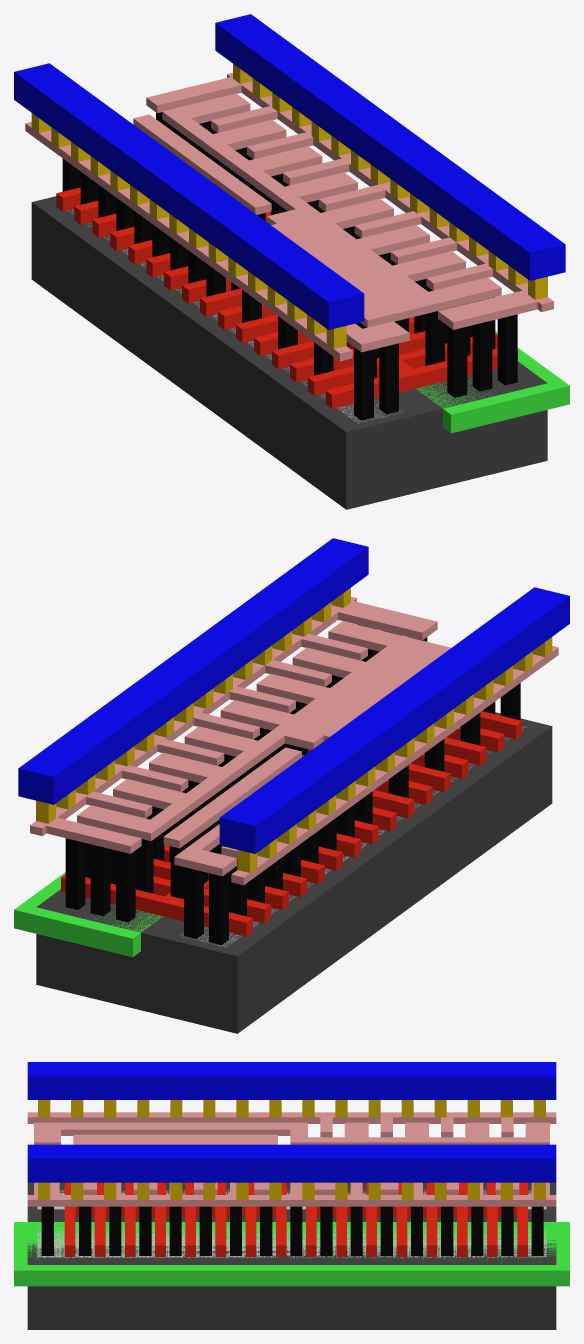
File: sky130_fd_sc_hd__nand2_8.obj
The picture shows the model from 3 angles, top to bottom: view 1: azimuth 30°, elevation 25°; view 2: azimuth 150°, elevation 25°; view 3: azimuth 270°, elevation 25°; orthographic projection. The views are drawn at different scales.
Visible parts, largest first — view 1: subs, metal1, li, licon, poly, mcon, nwell; view 2: subs, metal1, li, licon, poly, mcon, nwell; view 3: metal1, subs, li, nwell, poly, licon, mcon, tap.
Part boxes in pixels (x1=…): subs: x1=31, y1=196, x2=547, y2=509; metal1: x1=14, y1=14, x2=565, y2=329; li: x1=25, y1=73, x2=553, y2=361; licon: x1=62, y1=112, x2=517, y2=420; poly: x1=56, y1=187, x2=517, y2=408; mcon: x1=31, y1=64, x2=547, y2=348; nwell: x1=416, y1=331, x2=569, y2=433; subs: x1=36, y1=712, x2=552, y2=1033; metal1: x1=18, y1=538, x2=569, y2=853; li: x1=30, y1=597, x2=558, y2=885; licon: x1=65, y1=625, x2=520, y2=945; poly: x1=61, y1=711, x2=522, y2=936; mcon: x1=36, y1=588, x2=552, y2=872; nwell: x1=14, y1=872, x2=162, y2=957; metal1: x1=27, y1=1062, x2=556, y2=1182; subs: x1=27, y1=1182, x2=556, y2=1329; li: x1=27, y1=1112, x2=556, y2=1206; nwell: x1=14, y1=1222, x2=569, y2=1286; poly: x1=64, y1=1182, x2=527, y2=1256; licon: x1=41, y1=1206, x2=543, y2=1255; mcon: x1=38, y1=1100, x2=545, y2=1199; tap: x1=37, y1=1228, x2=546, y2=1257.
Size of the model in its own units: 3.2 by 2.74 by 7.74.
